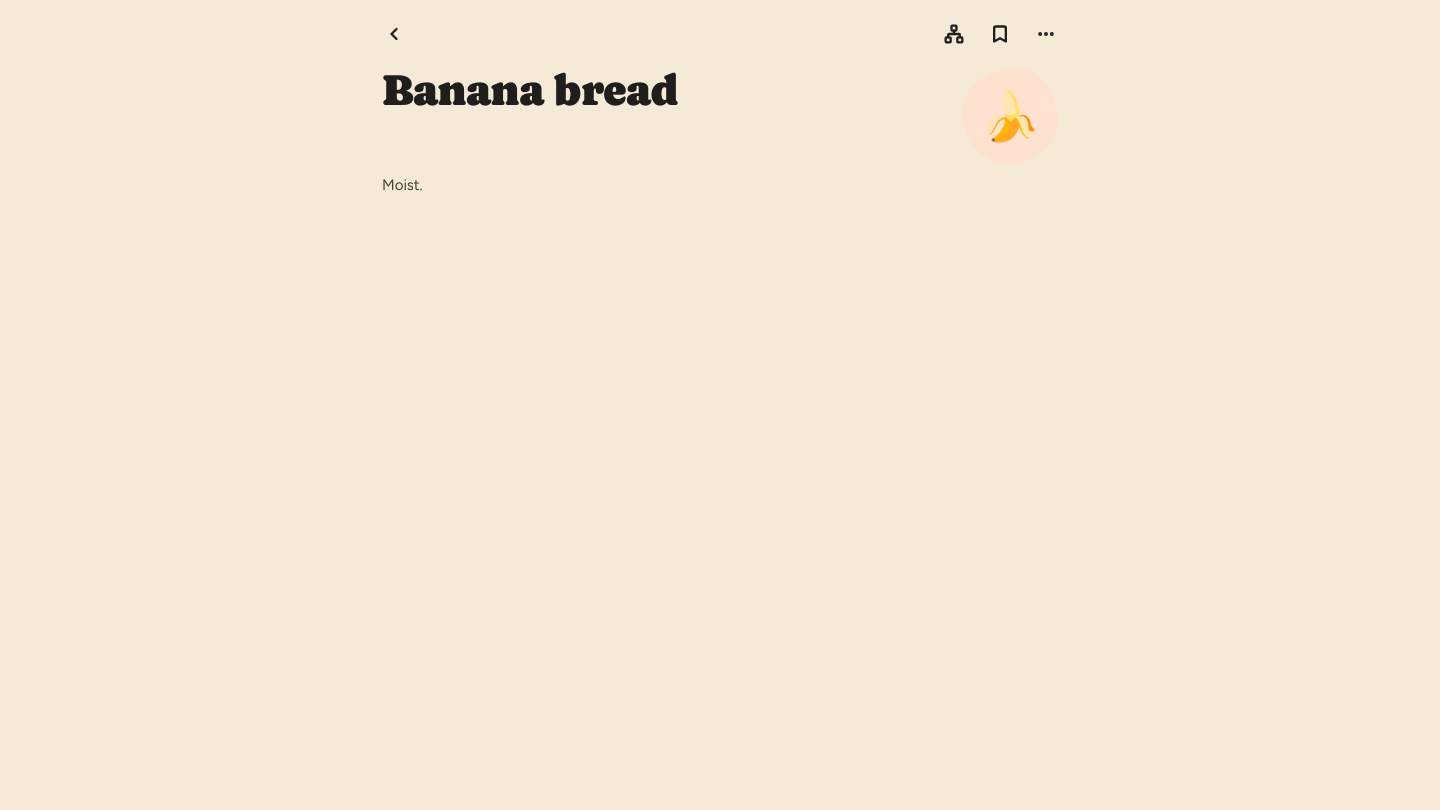
Test: RecipeHeader menu sheet › enables Copy share link when not sharing
Click the button named "More options".
click(1046, 34)  # box [1024, 12, 1068, 56]
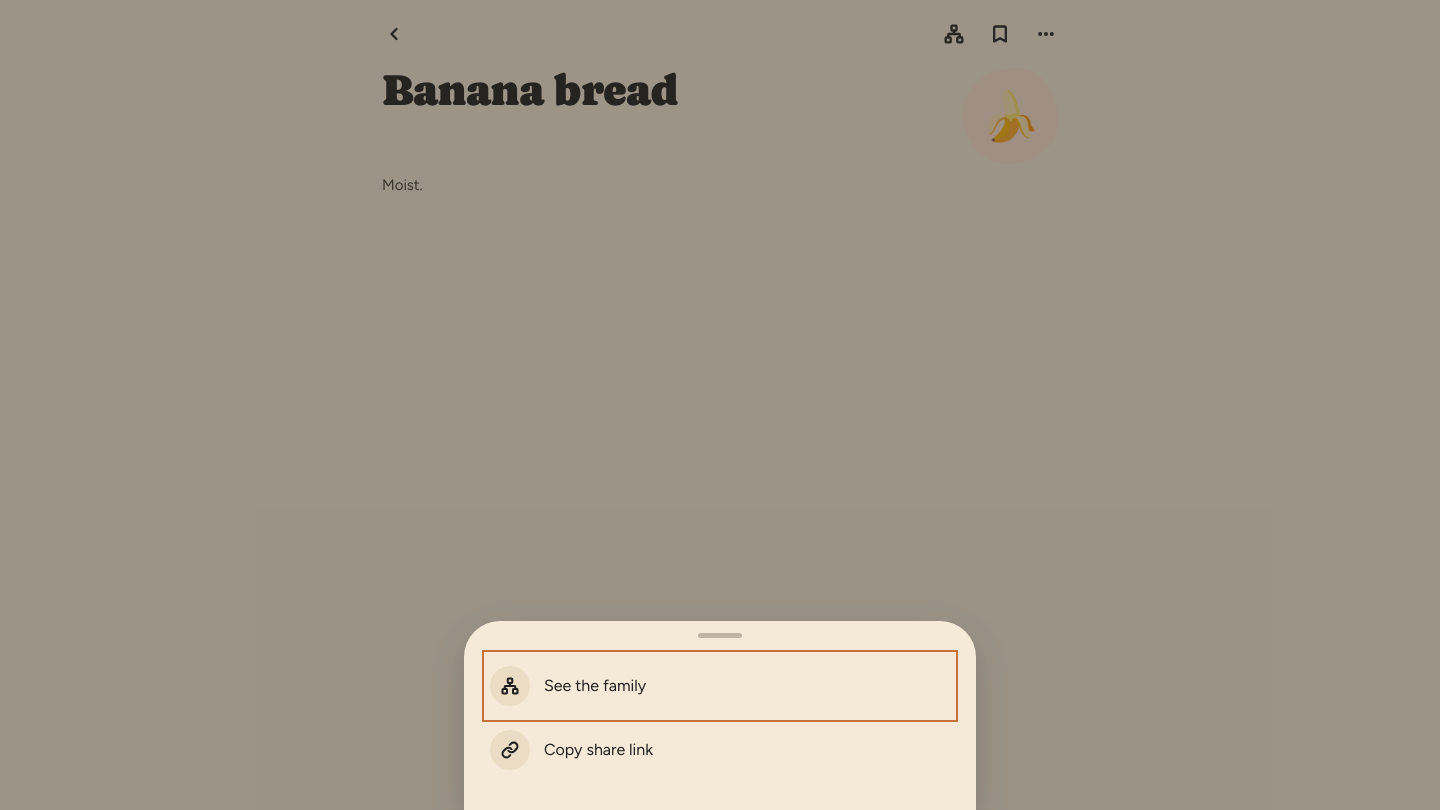
Now the button "Copy share link" is enabled, box [486, 718, 954, 782]
